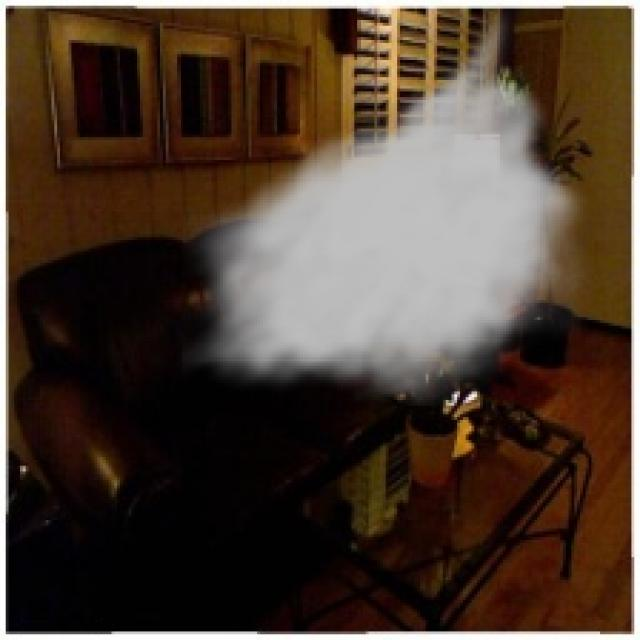smoke: (177, 0, 594, 406)
